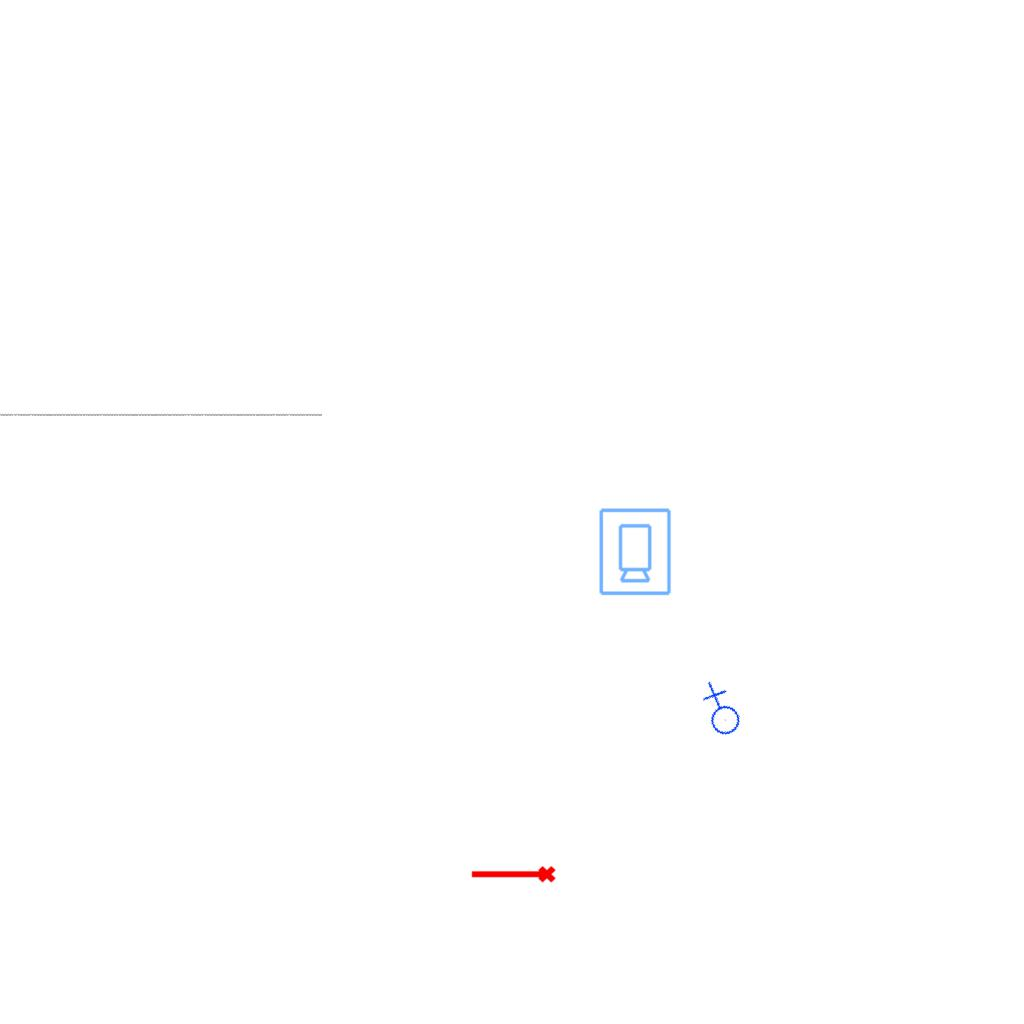ASR_Ansaugoeffnung: (469, 864, 557, 887)
Elektroanschluss_allgemein_230V_Geraeteanschlussdose_230V: (688, 680, 751, 743)
KFO_Kamera_mit_Festobjektiv: (596, 506, 673, 597)
